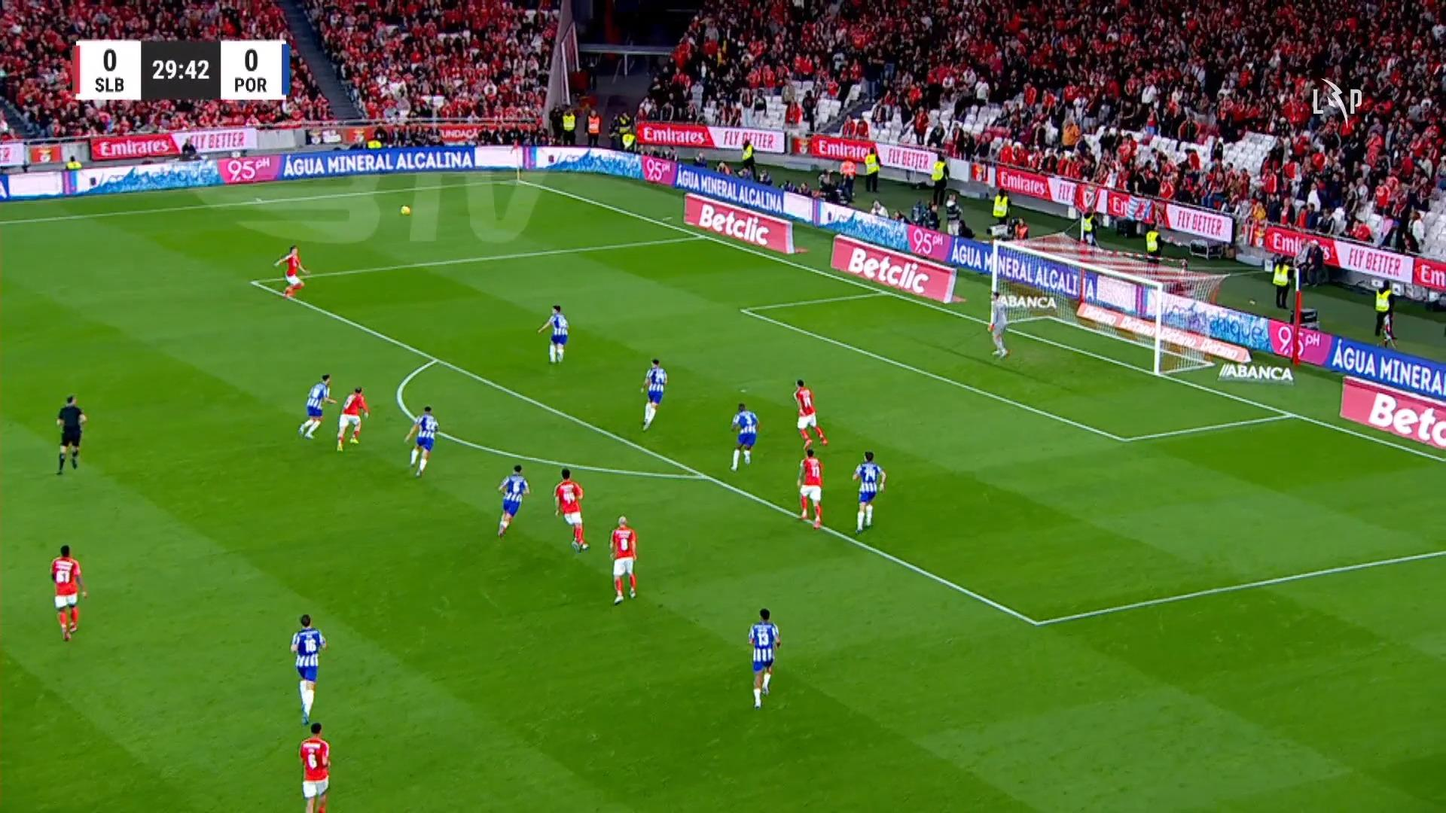ball: (399, 205, 410, 215)
goalkeeper: (987, 291, 1009, 358)
player: (289, 613, 327, 725), (50, 544, 87, 641), (746, 607, 780, 709), (552, 467, 589, 551), (851, 450, 886, 534), (298, 722, 331, 811), (792, 378, 828, 454), (608, 515, 638, 604), (297, 373, 337, 439), (496, 464, 530, 537), (404, 405, 438, 477), (796, 446, 824, 529), (335, 385, 368, 452), (639, 358, 667, 431), (729, 402, 758, 471), (536, 304, 569, 364), (273, 245, 310, 297)
referee: (55, 394, 87, 474)
